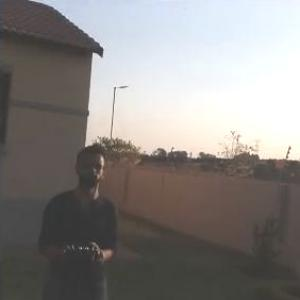follow: (38, 142, 132, 299)
